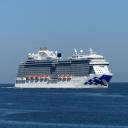cruises: (14, 43, 115, 93)
